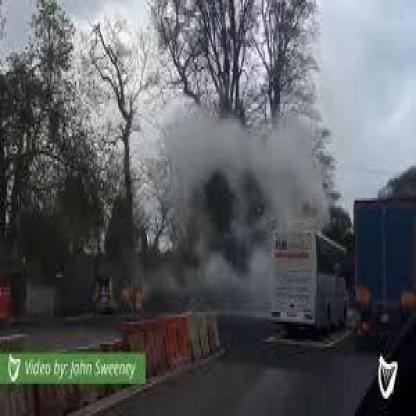smoke: (148, 99, 333, 315)
